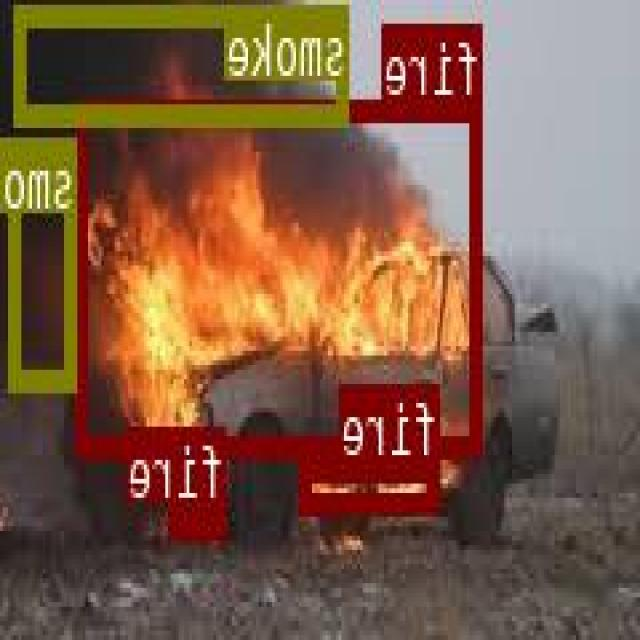fire: (80, 97, 483, 453), (303, 458, 440, 510), (171, 502, 227, 535)
smoke: (17, 3, 350, 121), (13, 134, 77, 388)
